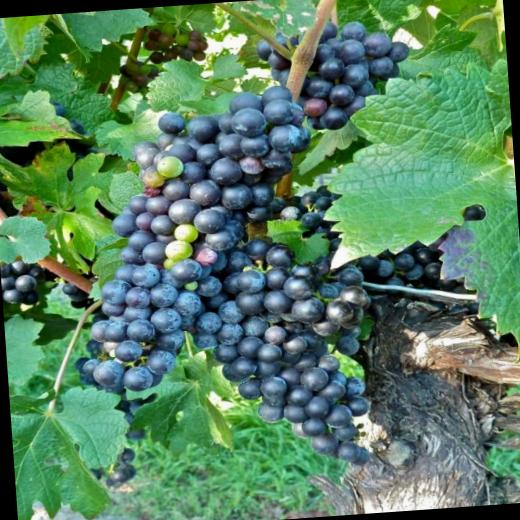Orange: (42, 12, 499, 486), (142, 23, 210, 64), (0, 257, 56, 305), (120, 60, 158, 92), (64, 116, 83, 135), (52, 100, 64, 119)
